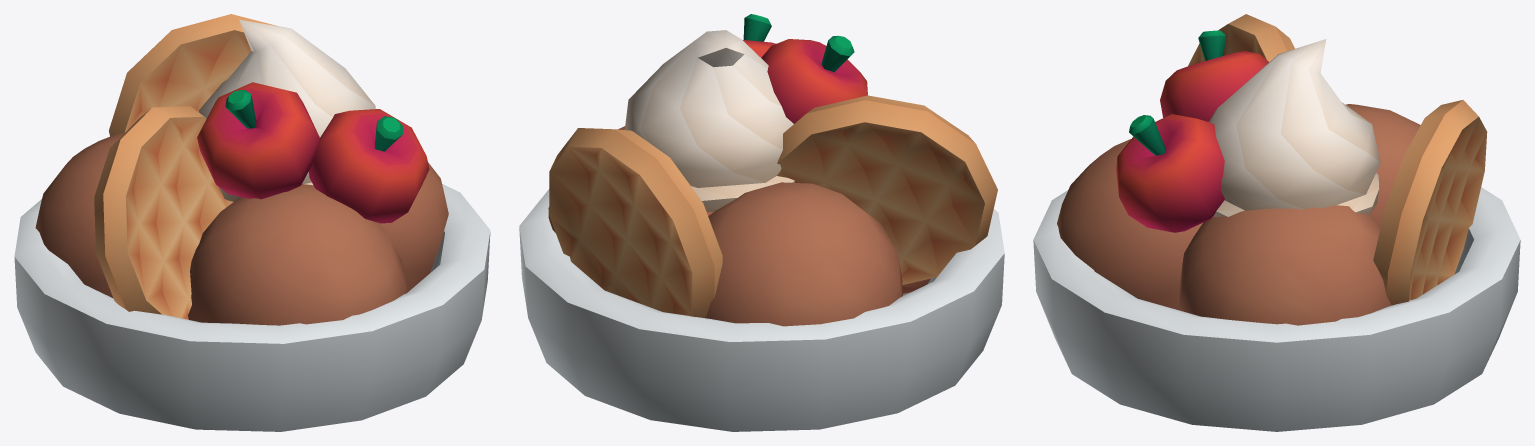
File: icecream_bowl_decorated_B.obj
The picture shows the model from 3 angles, left to right: view 1: azimuth 30°, elevation 25°; view 2: azimuth 150°, elevation 25°; view 3: azimuth 270°, elevation 25°; orthographic projection.
Visible parts, largest first — view 1: icecream_bowl_decorated_B_Sphere.073; view 2: icecream_bowl_decorated_B_Sphere.073; view 3: icecream_bowl_decorated_B_Sphere.073.
Boxes of the visible parts, x1=… form: icecream_bowl_decorated_B_Sphere.073: x1=14, y1=14, x2=490, y2=431; icecream_bowl_decorated_B_Sphere.073: x1=519, y1=14, x2=1004, y2=431; icecream_bowl_decorated_B_Sphere.073: x1=1033, y1=14, x2=1520, y2=431.
Bounding box in the file's own units: 0.95 × 0.7253 × 0.95.
1 material, 1 textured.
